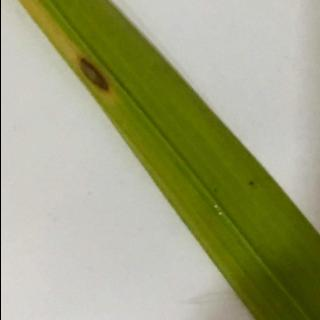Blast: (68, 45, 142, 97)
